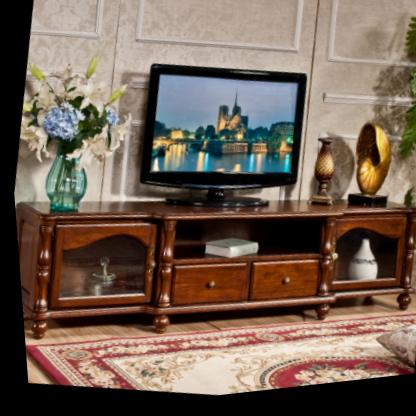TV stand: (10, 137, 416, 403)
